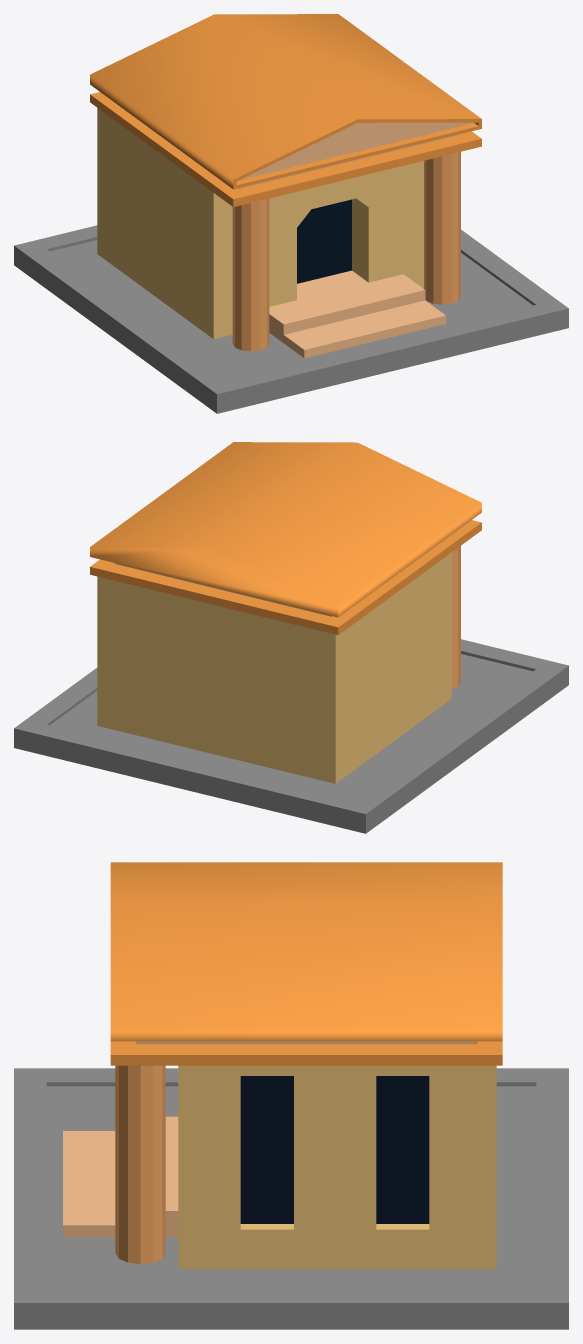
Rendered from MainOffice_Model.fbx.
3 views of the same model, one above another, from view 1: azimuth 30°, elevation 25°; view 2: azimuth 150°, elevation 25°; view 3: azimuth 270°, elevation 25° (orthographic). The views are drawn at different scales.
Parts seen in each view (by area): view 1: pCube9, pCube14, pCube7, pCube10, pCylinder8, pCylinder9; view 2: pCube14, pCube9, pCube7, pCylinder8; view 3: pCube9, pCube14, pCube7, pCylinder9, pCube10.
Boxes of the visible parts, x1,y1,x2,y2 form: pCube9: [90, 14, 481, 206]; pCube14: [97, 108, 423, 339]; pCube7: [14, 225, 568, 413]; pCube10: [269, 270, 445, 358]; pCylinder8: [232, 198, 269, 351]; pCylinder9: [424, 152, 460, 304]; pCube14: [97, 552, 451, 783]; pCube9: [90, 442, 481, 635]; pCube7: [14, 639, 568, 833]; pCylinder8: [452, 546, 460, 689]; pCube9: [110, 862, 502, 1065]; pCube14: [178, 1065, 496, 1268]; pCube7: [14, 1068, 568, 1329]; pCylinder9: [115, 1065, 165, 1263]; pCube10: [63, 1116, 178, 1236].
Bounding box in the file's own units: 22.06 × 13.52 × 22.06.
